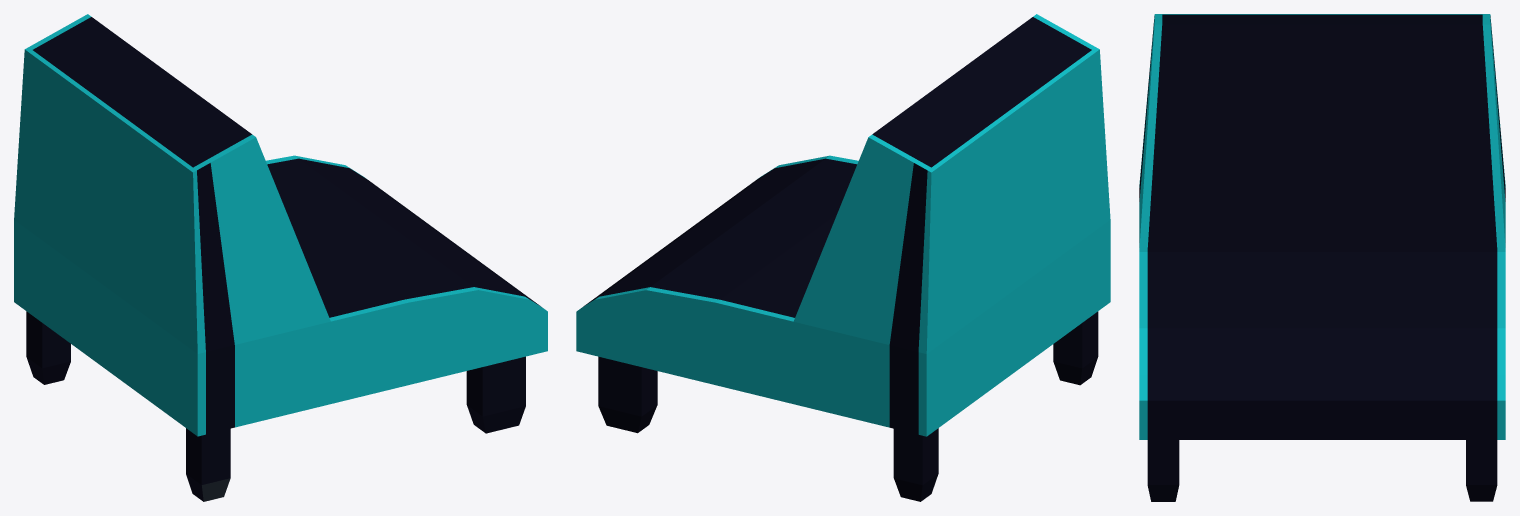
File: Interior_Recliner_Blue.fbx
3 renders of one model, left to right at view 1: azimuth 30°, elevation 25°; view 2: azimuth 150°, elevation 25°; view 3: azimuth 270°, elevation 25°, orthographic.
Parts seen in each view (by area): view 1: Cube.305; view 2: Cube.305; view 3: Cube.305.
Boxes of the visible parts, <box> form: Cube.305: <box>14,14,547,501</box>; Cube.305: <box>576,14,1110,501</box>; Cube.305: <box>1139,14,1505,501</box>.
Bounding box in the file's own units: 90.68 × 86.82 × 82.41.
